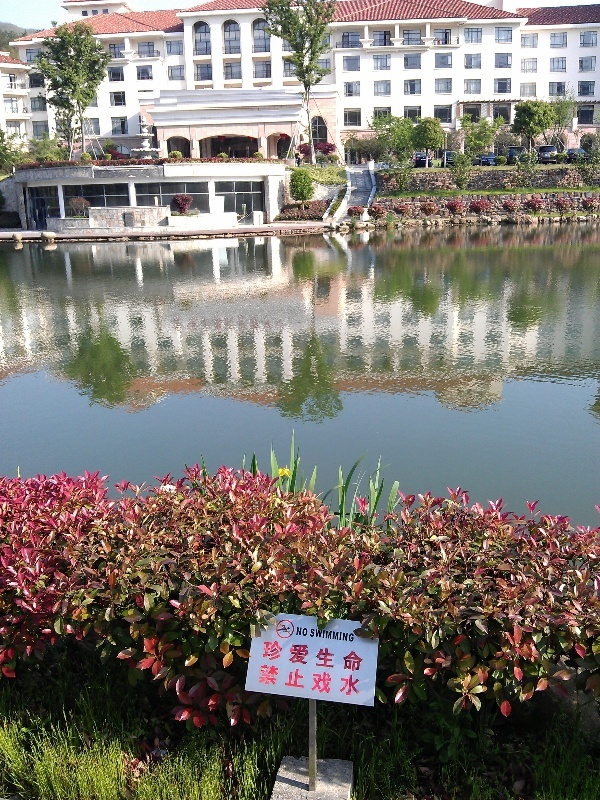text: (273, 639, 288, 674), (289, 639, 304, 674), (305, 639, 320, 674), (321, 639, 336, 674), (337, 639, 352, 674), (273, 663, 288, 698), (289, 663, 304, 698), (305, 663, 320, 698), (321, 663, 336, 698), (337, 663, 352, 698), (353, 639, 365, 674), (261, 663, 272, 698), (353, 663, 362, 698), (264, 639, 272, 674), (321, 629, 336, 643), (337, 629, 352, 643), (311, 629, 320, 643), (298, 627, 304, 637), (305, 627, 309, 637), (353, 629, 355, 643)
